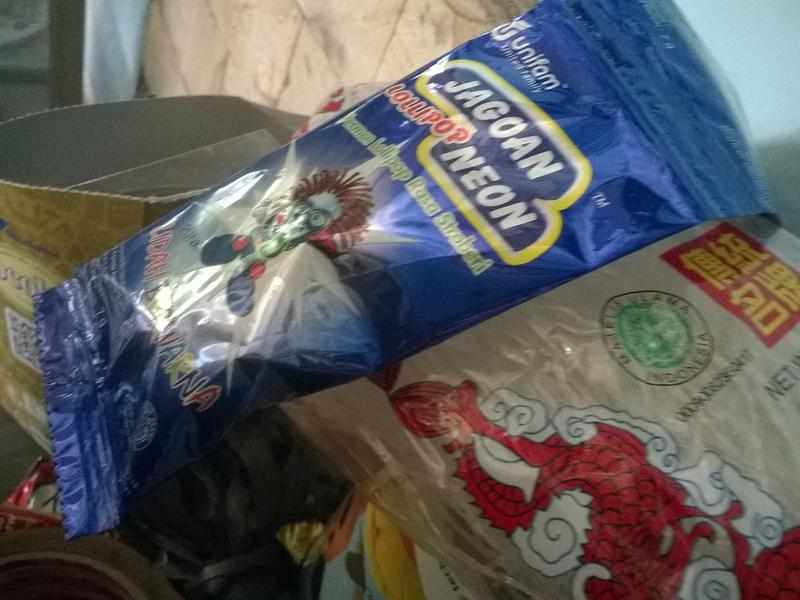jagoan neon: (33, 1, 735, 540)
